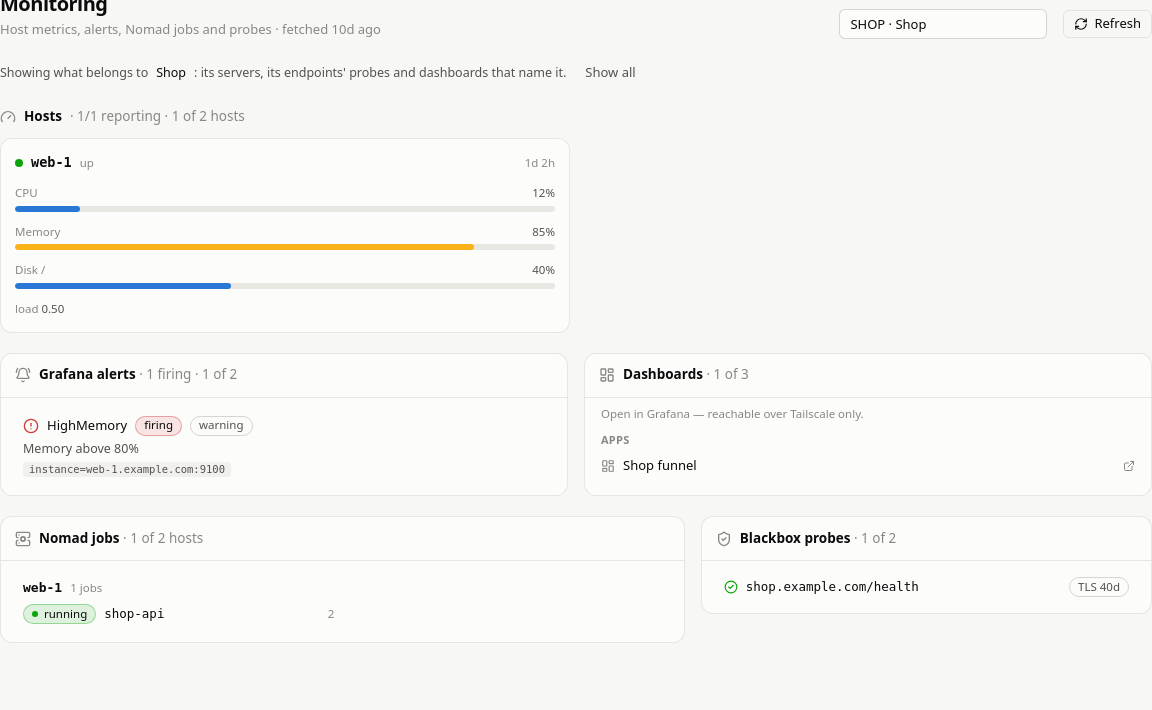
it: monitoring project filter › narrows hosts, jobs, alerts, probes and dashboards to the project
Check: the text "Showing what belongs to" is shown, box [0,64,148,81]
Check: the text "db-1" is not shown
Select "All projects" in the dropdown named "Project": (943, 24) [839,9,1047,39]
(page scrolled)
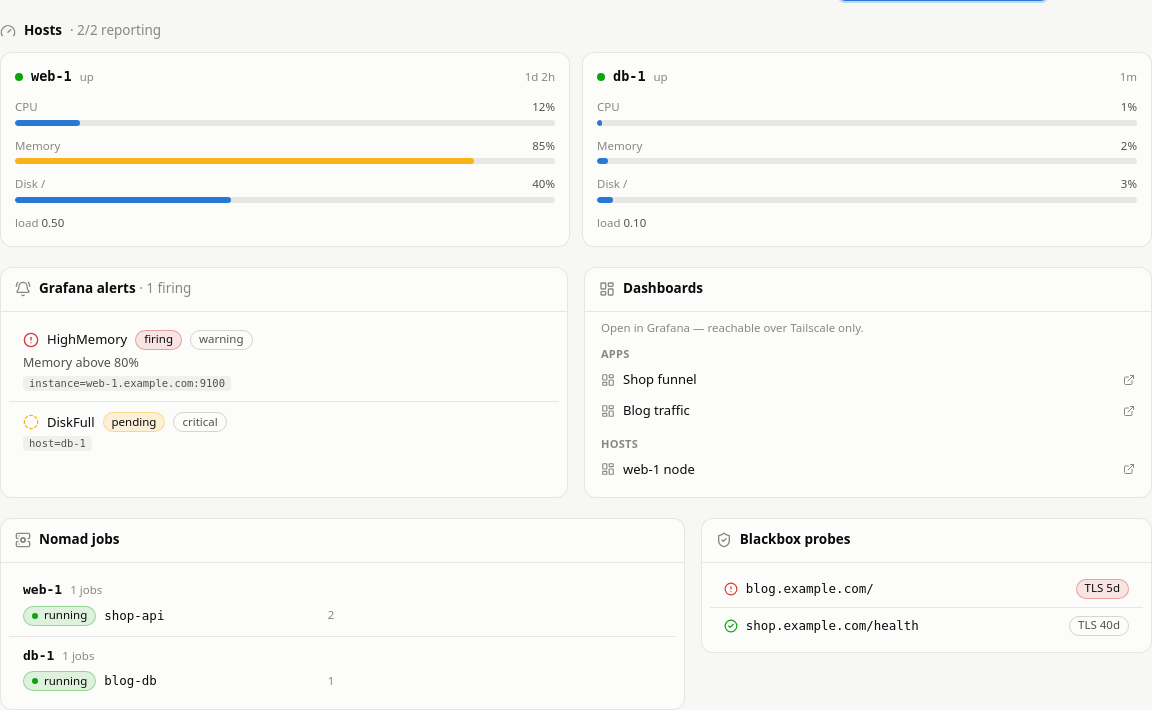
Check: the text "blog-db" is shown, box [104,673,157,688]
Check: the text "Showing what belongs to" is gone
